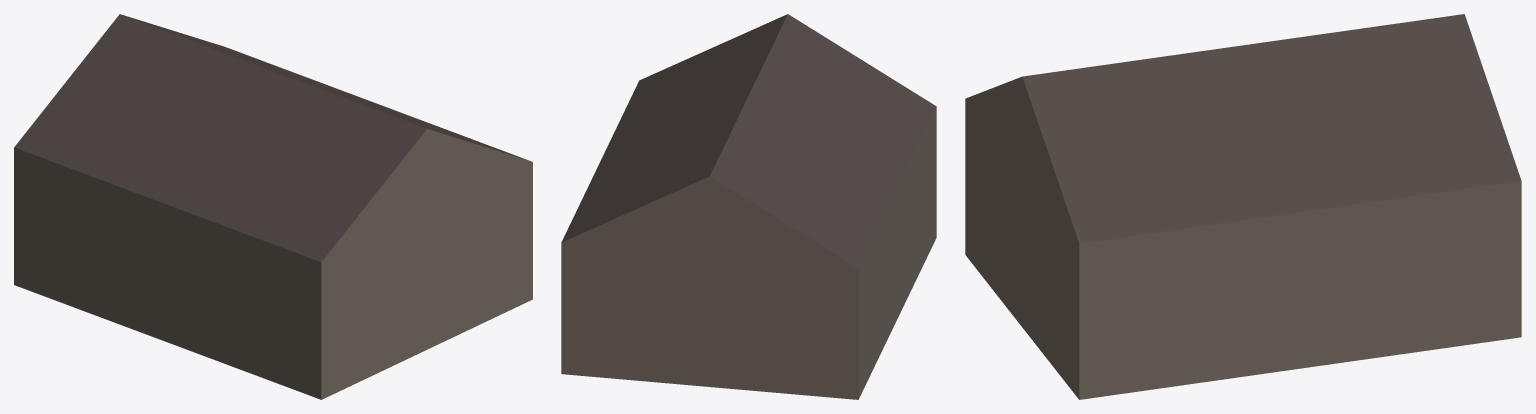
3 renders of one model, left to right at view 1: azimuth 30°, elevation 25°; view 2: azimuth 150°, elevation 25°; view 3: azimuth 270°, elevation 25°, orthographic. The views are drawn at different scales.
Visible parts, largest first — view 1: HP-w859457356; view 2: HP-w859457356; view 3: HP-w859457356.
Boxes of the visible parts, x1,y1,x2,y2 form: HP-w859457356: [14, 14, 532, 399]; HP-w859457356: [561, 14, 936, 399]; HP-w859457356: [965, 14, 1521, 399].
Size of the model in its own units: 17.08 by 9.63 by 19.34.
